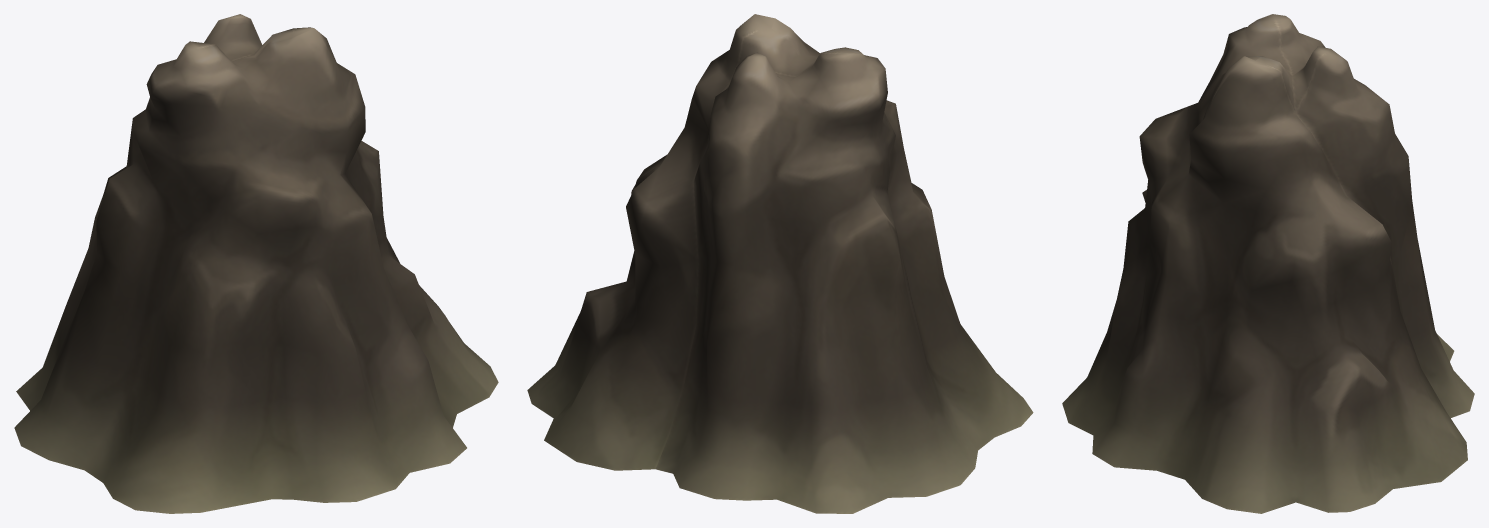
The model's file is Rock_Medium_01.FBX.
3 views of the same model, side by side, from view 1: azimuth 30°, elevation 25°; view 2: azimuth 150°, elevation 25°; view 3: azimuth 270°, elevation 25° (orthographic). The views are drawn at different scales.
Parts seen in each view (by area): view 1: Rock_Medium_01; view 2: Rock_Medium_01; view 3: Rock_Medium_01.
Boxes of the visible parts, left/top/right/bottom form: Rock_Medium_01: left=14, top=14, right=498, bottom=513; Rock_Medium_01: left=527, top=14, right=1033, bottom=513; Rock_Medium_01: left=1062, top=14, right=1474, bottom=513.
Size of the model in its own units: 1581 by 1349 by 1376.
